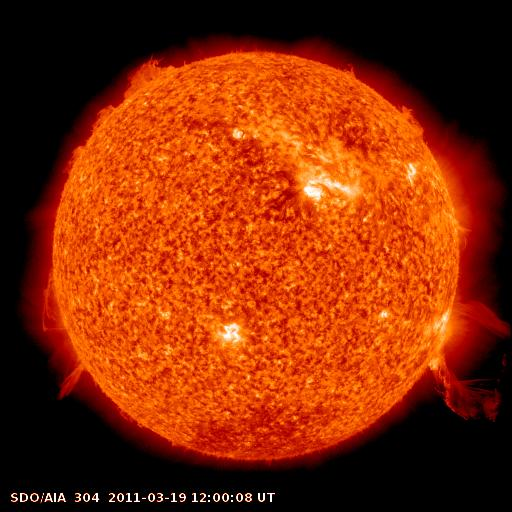prominence: (420, 291, 512, 428), (126, 49, 188, 100), (49, 355, 101, 407), (395, 98, 432, 145), (330, 52, 368, 90), (90, 101, 119, 138), (61, 139, 85, 181)
